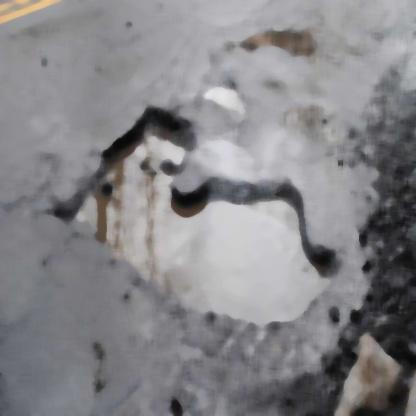Potholes: (70, 120, 314, 342)
